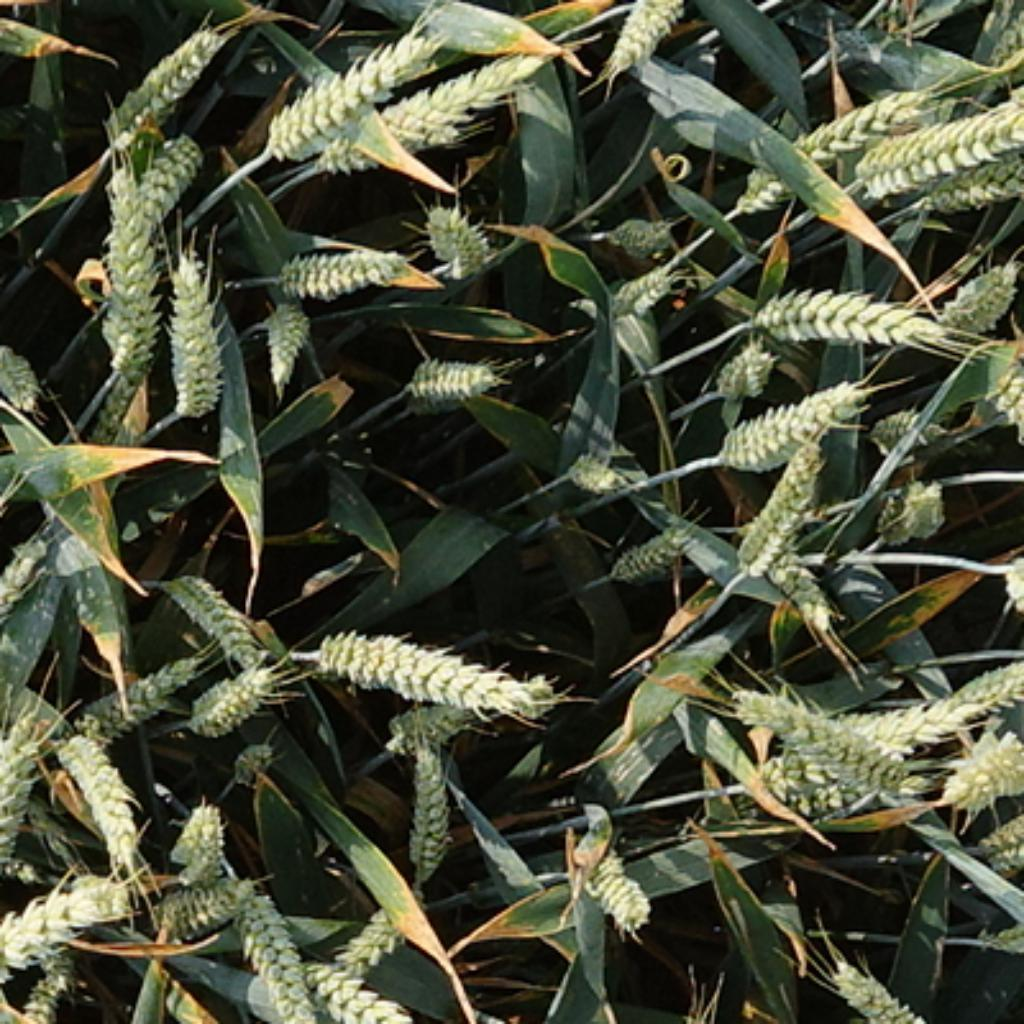0-0: (253, 20, 448, 161), (724, 88, 931, 216), (84, 128, 186, 386), (752, 693, 988, 796), (732, 678, 924, 803), (89, 128, 204, 330), (309, 627, 550, 721), (360, 35, 547, 153), (87, 156, 168, 404), (842, 88, 1024, 198), (97, 10, 235, 135), (747, 284, 962, 358), (729, 435, 834, 583), (704, 373, 865, 463), (230, 867, 322, 1024), (99, 125, 209, 253), (56, 739, 148, 867), (76, 645, 204, 737), (739, 522, 837, 642), (299, 954, 464, 1024), (153, 568, 266, 668), (302, 901, 407, 1008), (163, 248, 227, 419), (266, 232, 412, 299), (0, 697, 51, 876), (396, 737, 458, 883), (737, 775, 939, 819), (821, 952, 942, 1024), (0, 890, 85, 984), (926, 248, 1021, 332), (151, 865, 258, 939), (0, 512, 65, 626), (576, 842, 655, 934), (184, 663, 279, 739), (944, 721, 1024, 806), (389, 688, 494, 752), (394, 343, 504, 404), (417, 192, 499, 268), (604, 2, 696, 69), (872, 463, 949, 540), (604, 512, 693, 578), (926, 153, 1024, 207), (166, 798, 230, 878), (934, 665, 1024, 716), (601, 256, 678, 314), (258, 291, 312, 371), (865, 396, 947, 448), (706, 330, 775, 391), (560, 435, 632, 488), (69, 870, 135, 926), (601, 209, 678, 256), (17, 964, 73, 1021), (0, 345, 40, 412), (980, 814, 1024, 872), (230, 737, 276, 778), (977, 924, 1024, 957)
